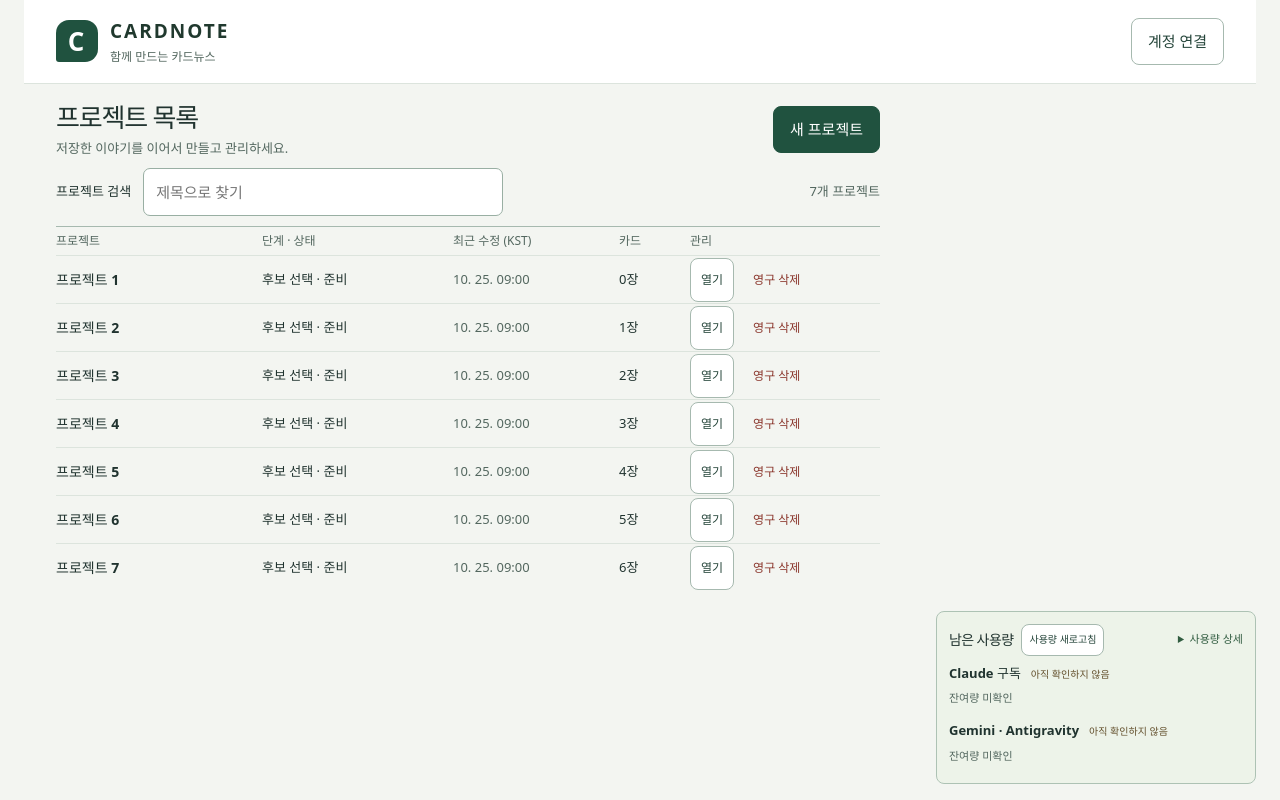
Test case: 영구 삭제는 대상 확인·취소·동일 요청 재시도 후에만 행을 제거한다
Step 1. Click the button "영구 삭제" in the row of "프로젝트 1" → point(777, 280), box [742,258,811,302]
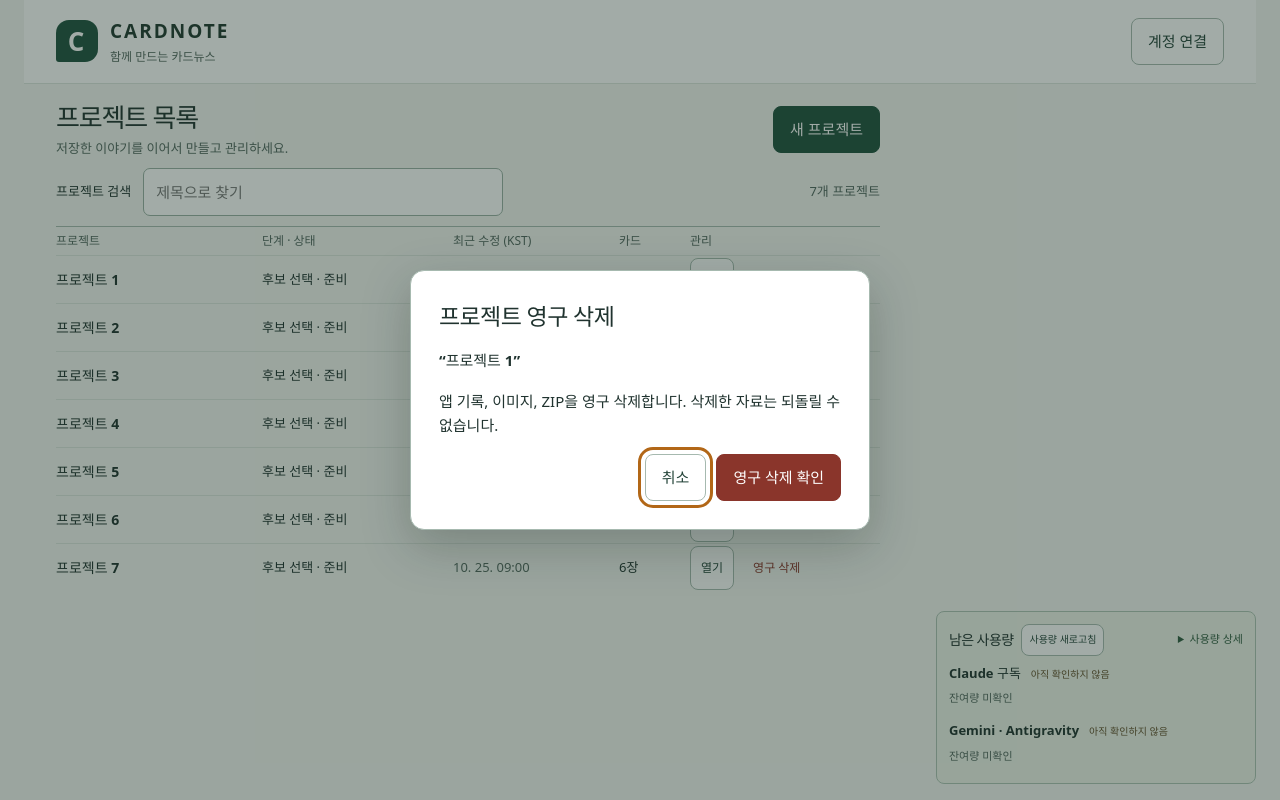
Expected: the text "“프로젝트 1”" is shown, [439,350,520,370]
Expected: the text "앱 기록, 이미지, ZIP을 영구 삭제합니다. 삭제한 자료는 되돌릴 수 없습니다." is shown, [439,388,841,438]
Step 2. Click the button "취소" → point(676, 477), box [645,454,706,501]
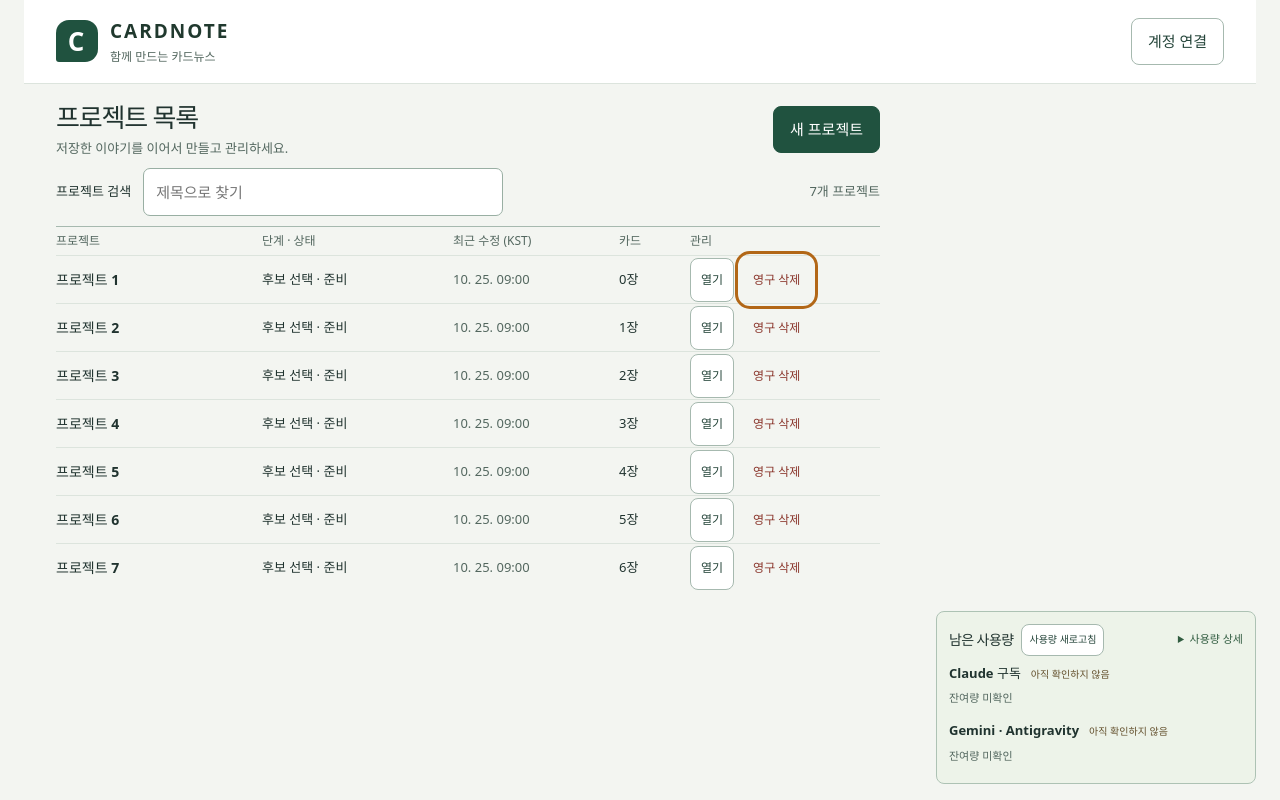
Step 3. Click the button "영구 삭제" in the row of "프로젝트 1" → point(777, 280), box [742,258,811,302]
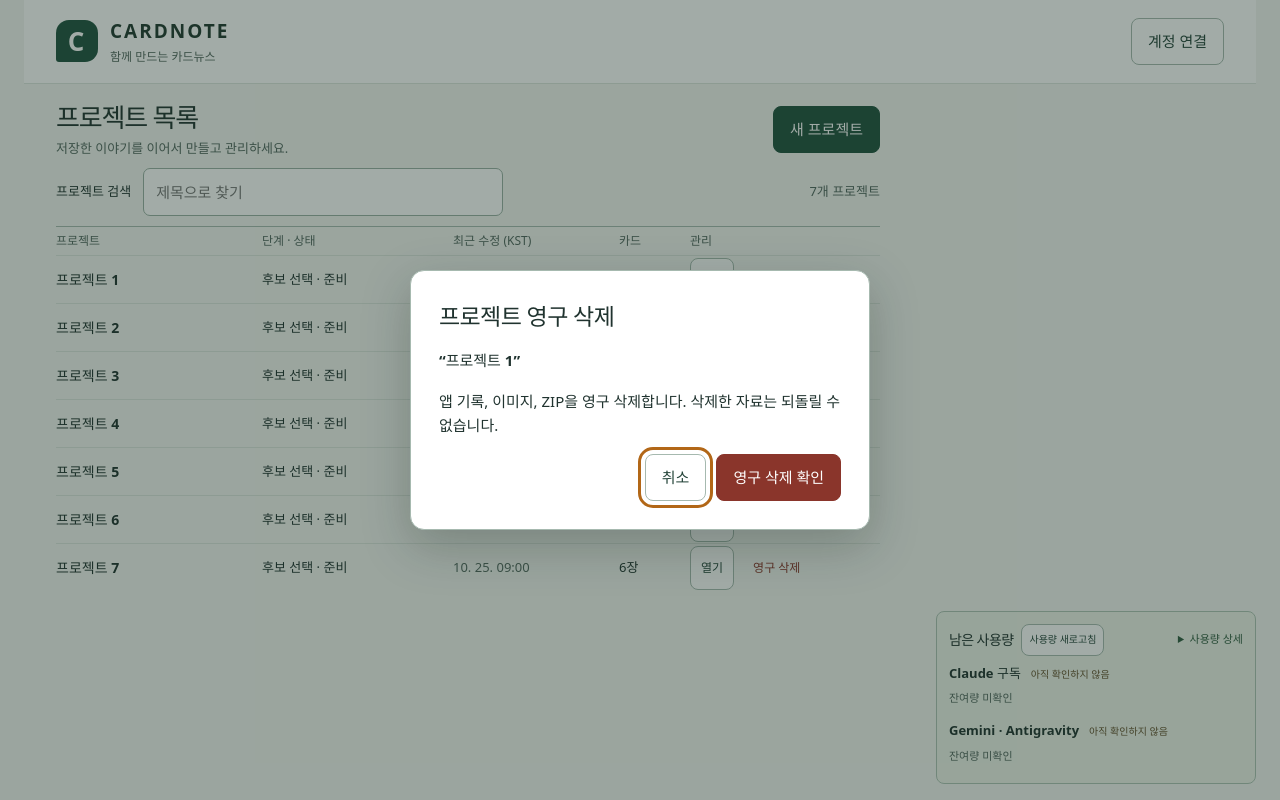
Step 4. Click the button "영구 삭제 확인" → point(779, 477), box [716,454,841,501]
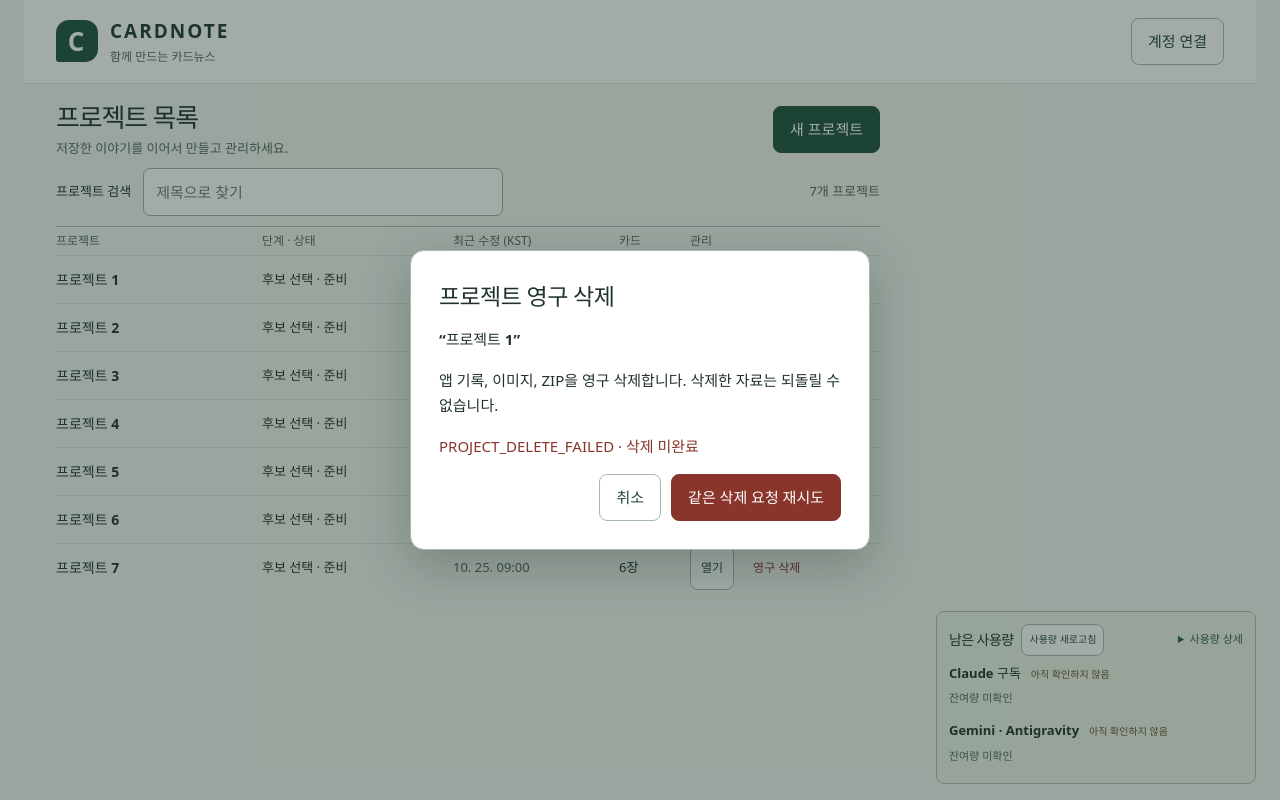
Expected: the row "프로젝트 1 후보 선택 · 준비 10. 25. 09:00 0장 열기 영구 삭제" is shown, [56,255,880,303]
Expected: the text "PROJECT_DELETE_FAILED · 삭제 미완료" is shown, [439,436,699,456]
Step 5. Click the button "같은 삭제 요청 재시도" → point(756, 498), box [671,474,841,521]
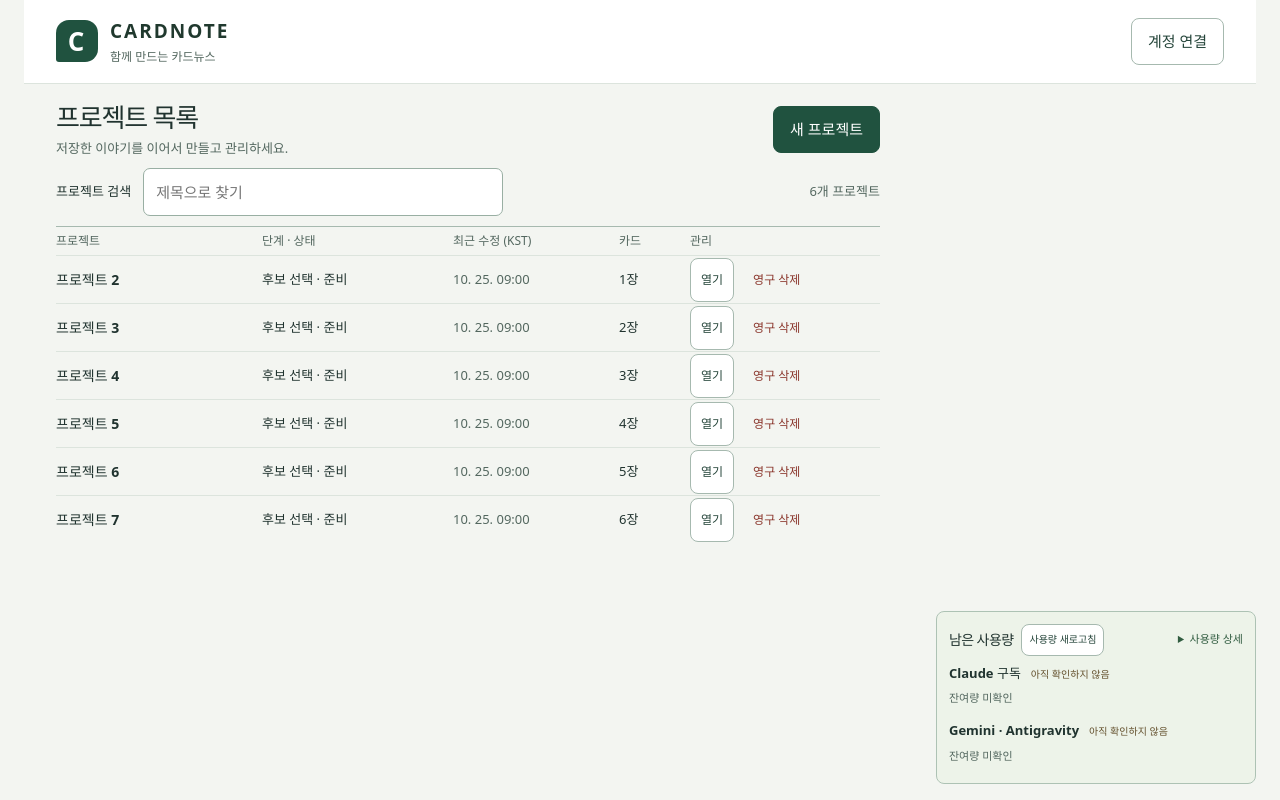
Expected: the cell "프로젝트 1" is gone
